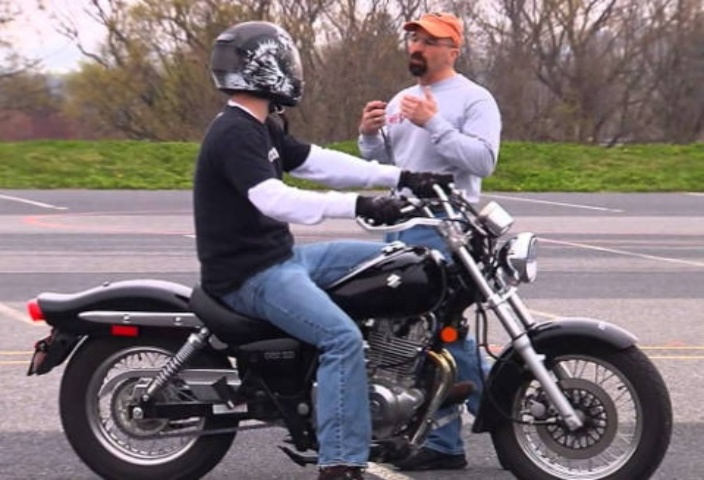motorcycle: (25, 14, 688, 480)
